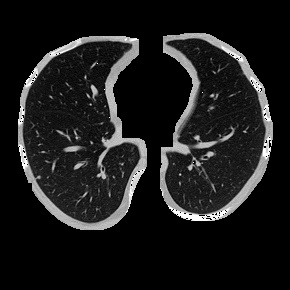PN: (37, 175, 41, 179)
